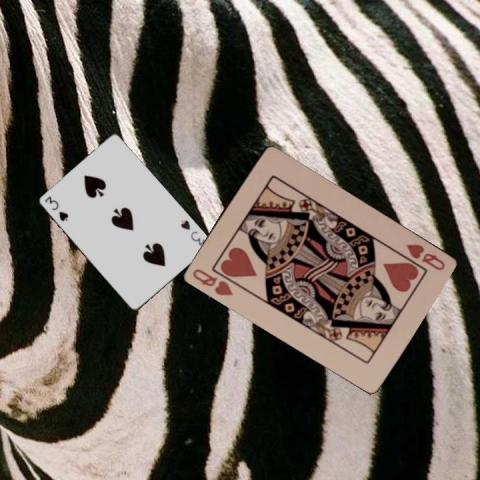3s: (178, 216, 207, 246), (42, 193, 70, 223)
Qh: (188, 266, 234, 298), (403, 241, 446, 272)
